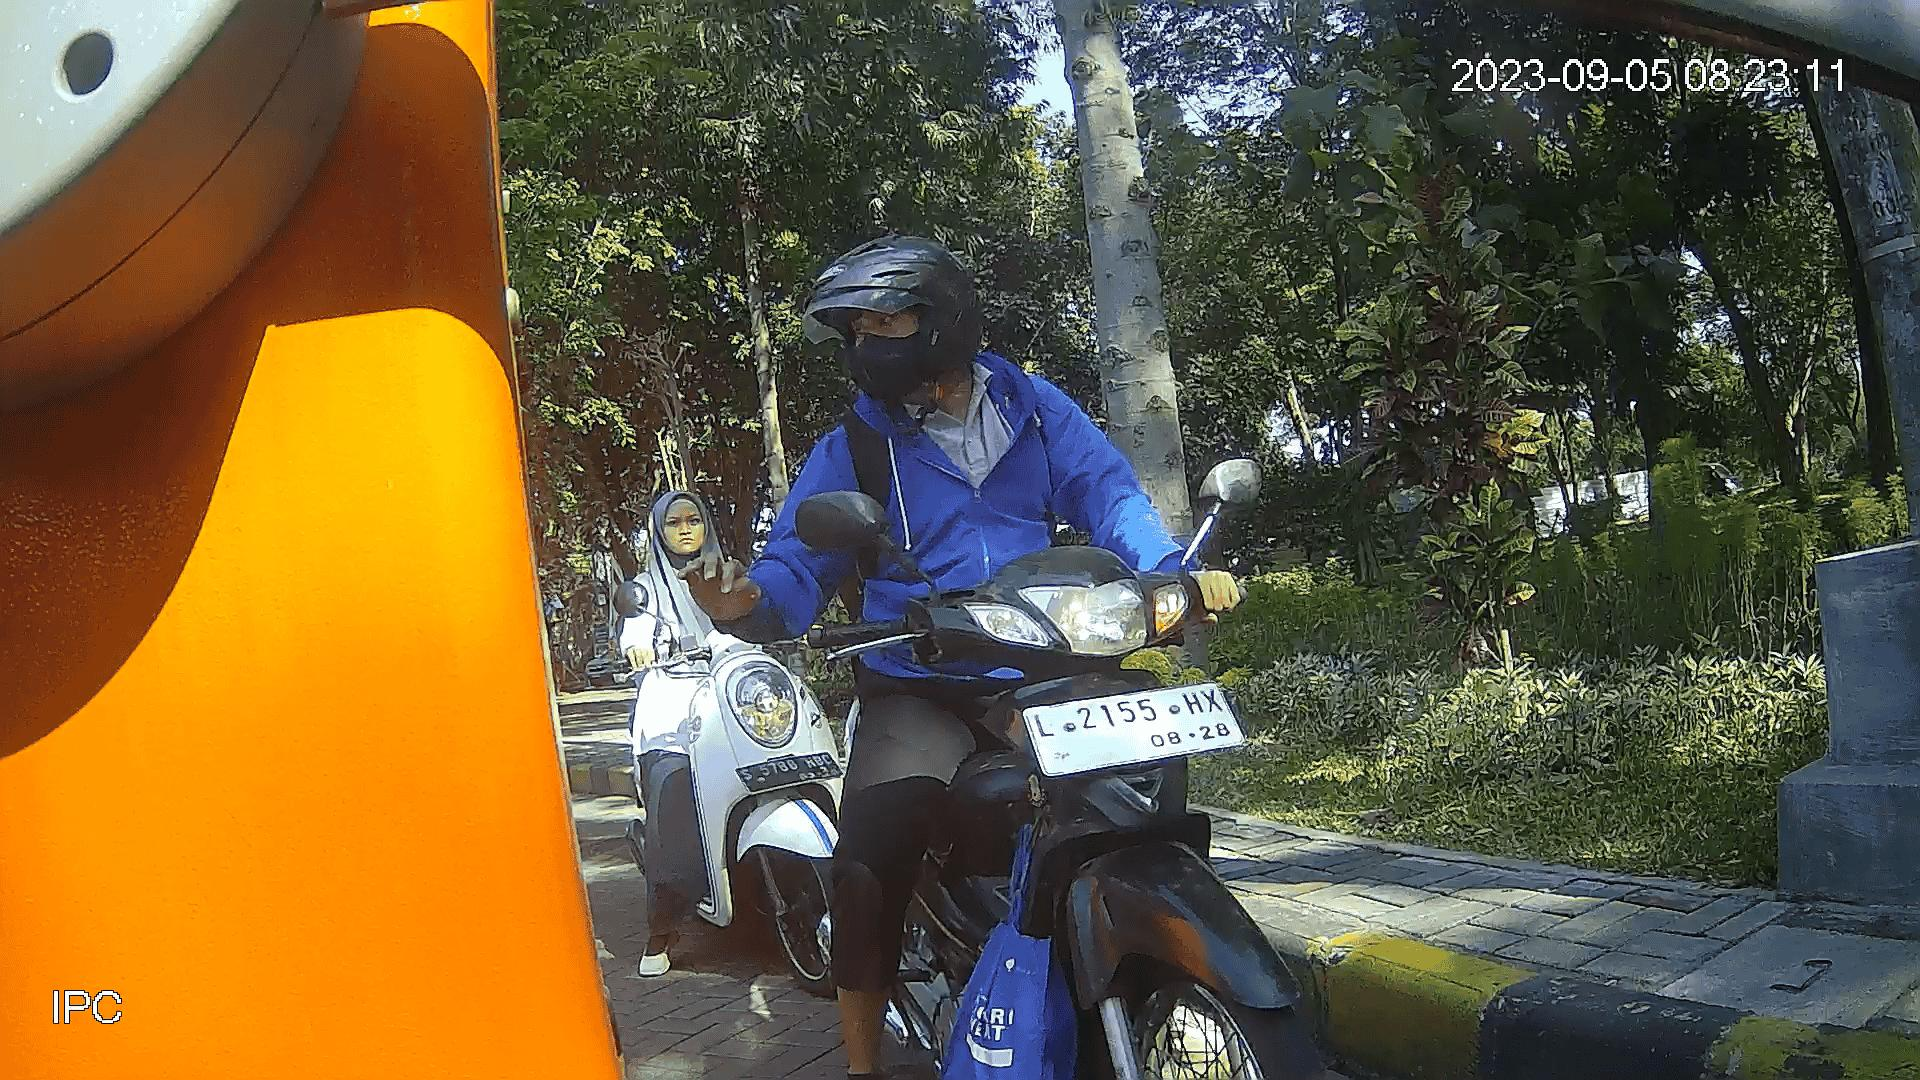plat: (1019, 682, 1251, 781), (738, 754, 844, 791)
